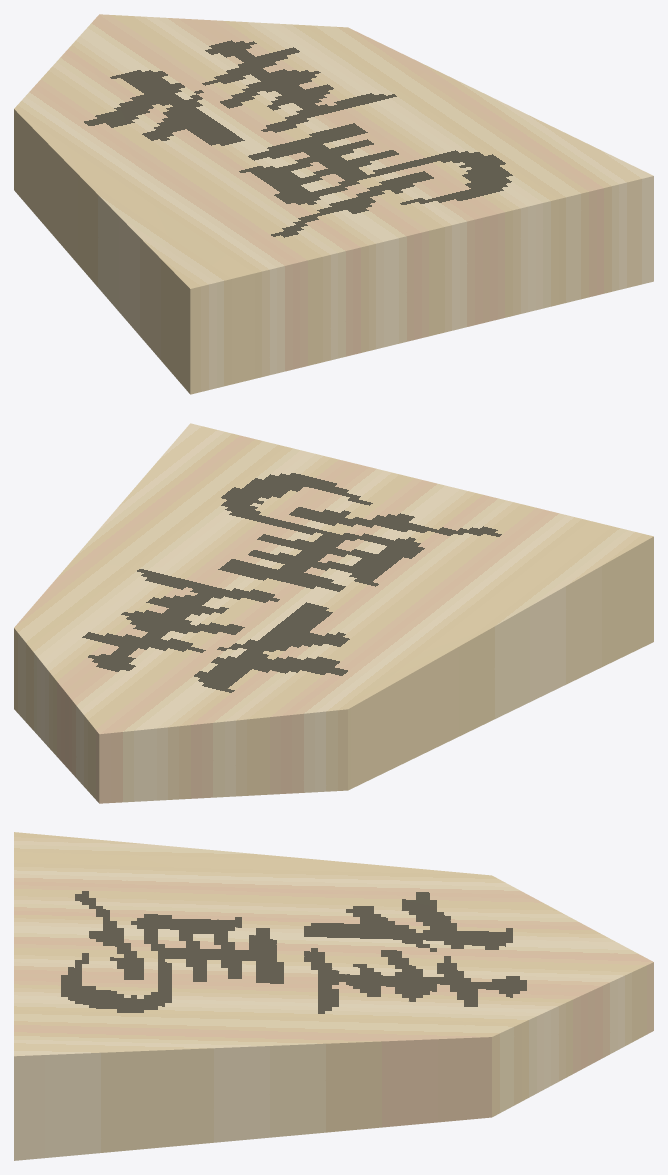
Rendered from 01bb_Keima.glb.
3 views of the same model, one above another, from view 1: azimuth 30°, elevation 25°; view 2: azimuth 150°, elevation 25°; view 3: azimuth 270°, elevation 25° (orthographic).
Parts seen in each view (by area): view 1: part_0; view 2: part_0; view 3: part_0.
Boxes of the visible parts, x1=… form: part_0: x1=14, y1=14, x2=653, y2=394; part_0: x1=14, y1=423, x2=653, y2=803; part_0: x1=14, y1=832, x2=653, y2=1160.
Size of the model in its own units: 0.024 by 0.00523 by 0.029.
1 material, 1 textured.
